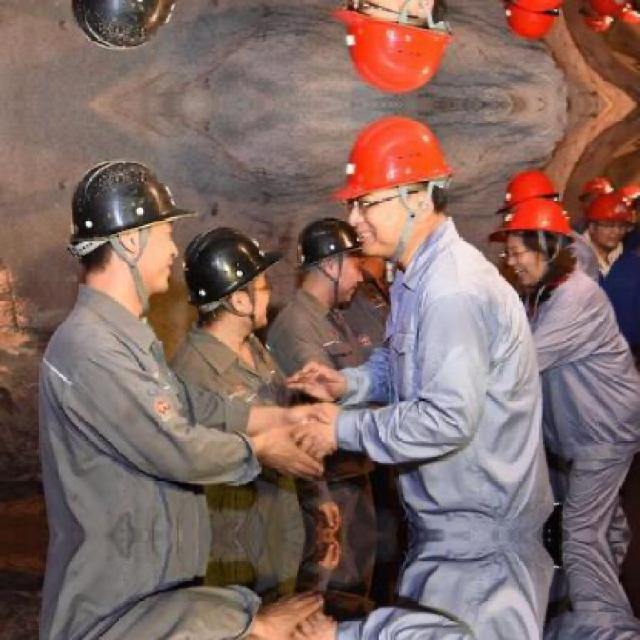helmet: (66, 150, 197, 302), (338, 114, 458, 254), (337, 0, 458, 94), (184, 222, 284, 326), (486, 198, 580, 282), (66, 0, 199, 57), (296, 214, 366, 300), (494, 165, 561, 228), (492, 0, 562, 43), (586, 190, 634, 248), (578, 172, 611, 210), (579, 0, 613, 35), (586, 0, 636, 17)
